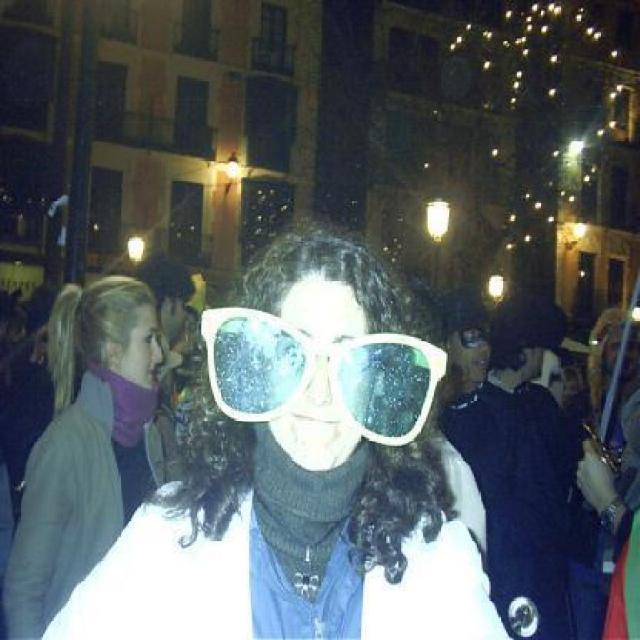face_nomask: (128, 316, 169, 392)
glasses: (191, 312, 452, 442)
hand_noglove: (567, 437, 618, 517)
head_nohelmet: (252, 219, 390, 306), (73, 264, 172, 325)
person: (147, 226, 495, 640), (7, 266, 170, 640)
